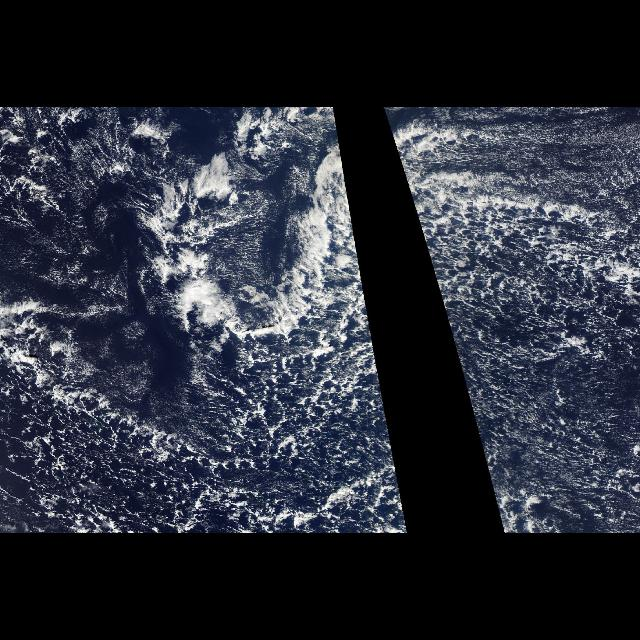Fish: (106, 153, 256, 324), (274, 114, 371, 330), (384, 115, 438, 295)
Gravel: (3, 203, 393, 532), (412, 122, 640, 492)
Sugar: (18, 120, 148, 368), (480, 389, 634, 531), (420, 116, 640, 198)
